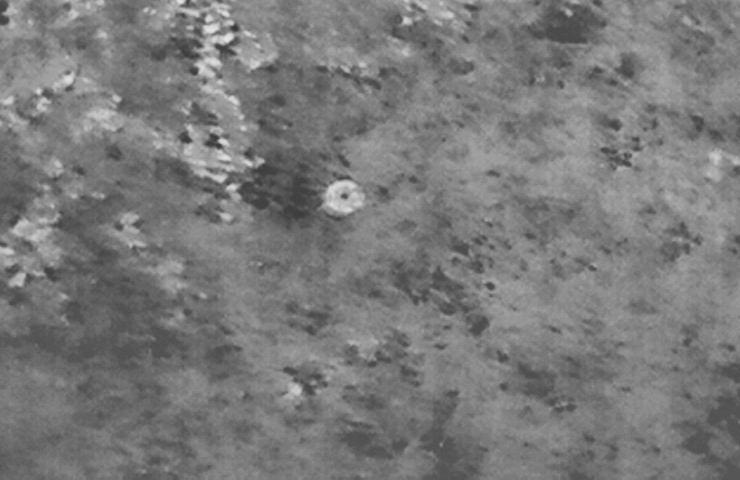landmines: (321, 175, 370, 218)
